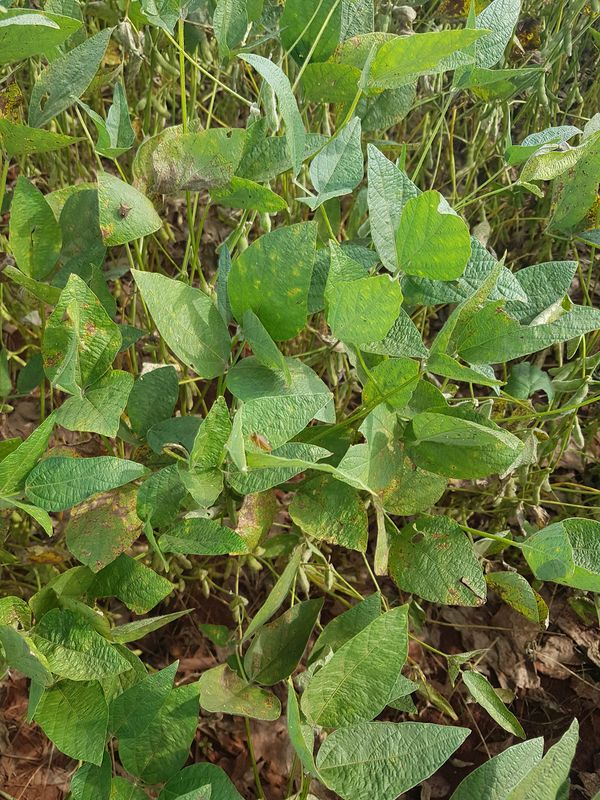Euschistus_heros_adulto: (243, 428, 277, 458), (111, 199, 137, 225)
